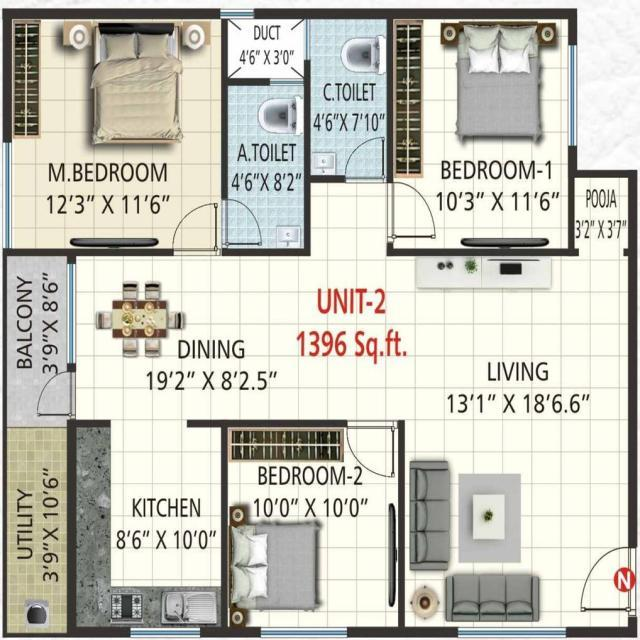Balcony-Sitout: (4, 252, 67, 422)
Bedroom: (394, 15, 570, 255), (225, 426, 401, 640)
Bedroom with Toilet: (0, 4, 225, 254)
Dining: (94, 276, 188, 367)
Kitchen: (67, 420, 228, 635)
Living: (399, 250, 640, 640)
Toilet: (227, 79, 310, 258), (305, 11, 391, 181)
Utility: (2, 428, 66, 639)
